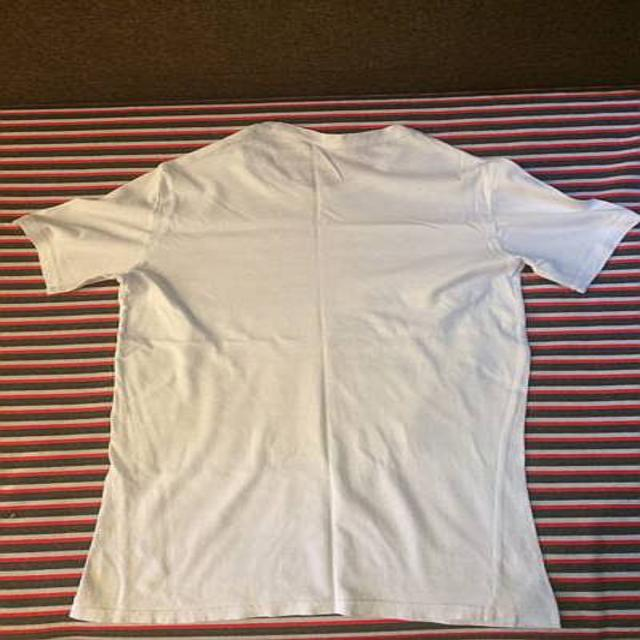T_SHIRT: (14, 117, 640, 640)
